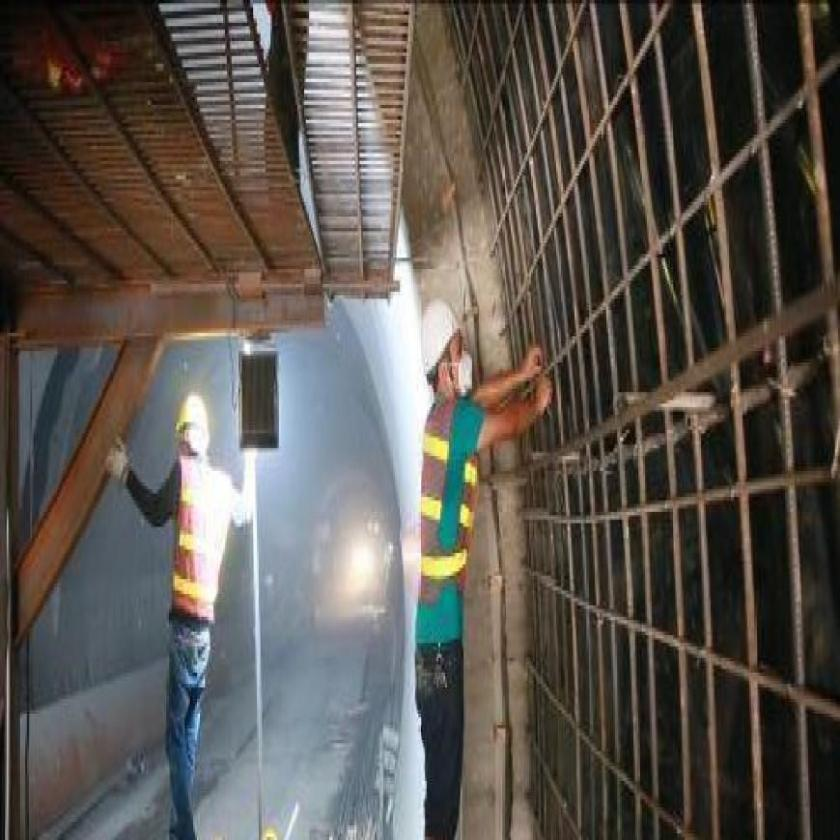Con_casco: (417, 294, 476, 409), (177, 390, 211, 467)
